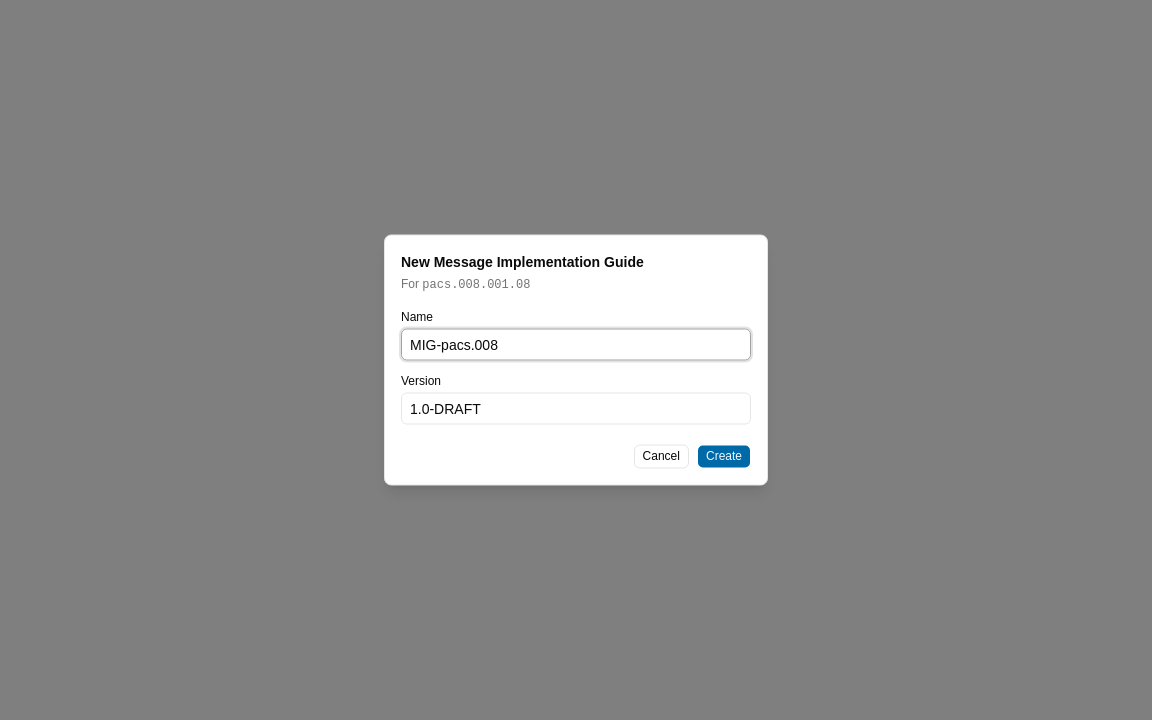
CreateMigDialog › requires a name and version
The width and height of the screenshot is (1152, 720).
Clear the field labelled "Name" at (576, 344), box 401,328 -> 751,360
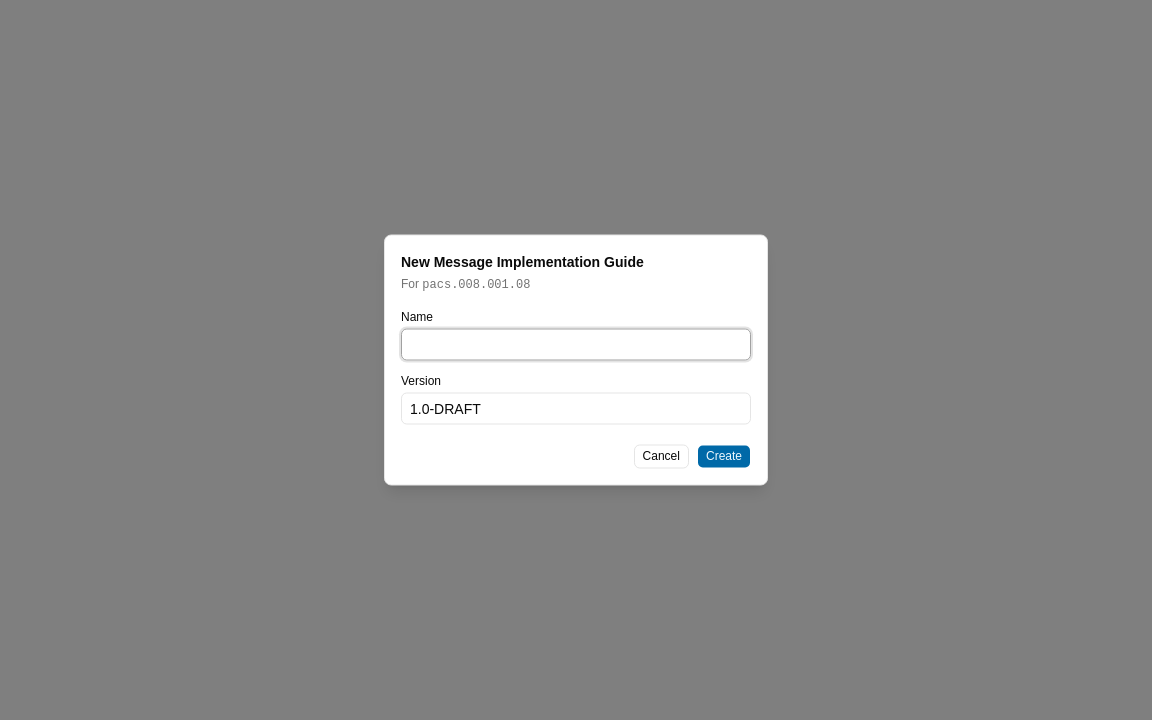
Click the button "Create" at (724, 456), box 697,444 -> 751,468
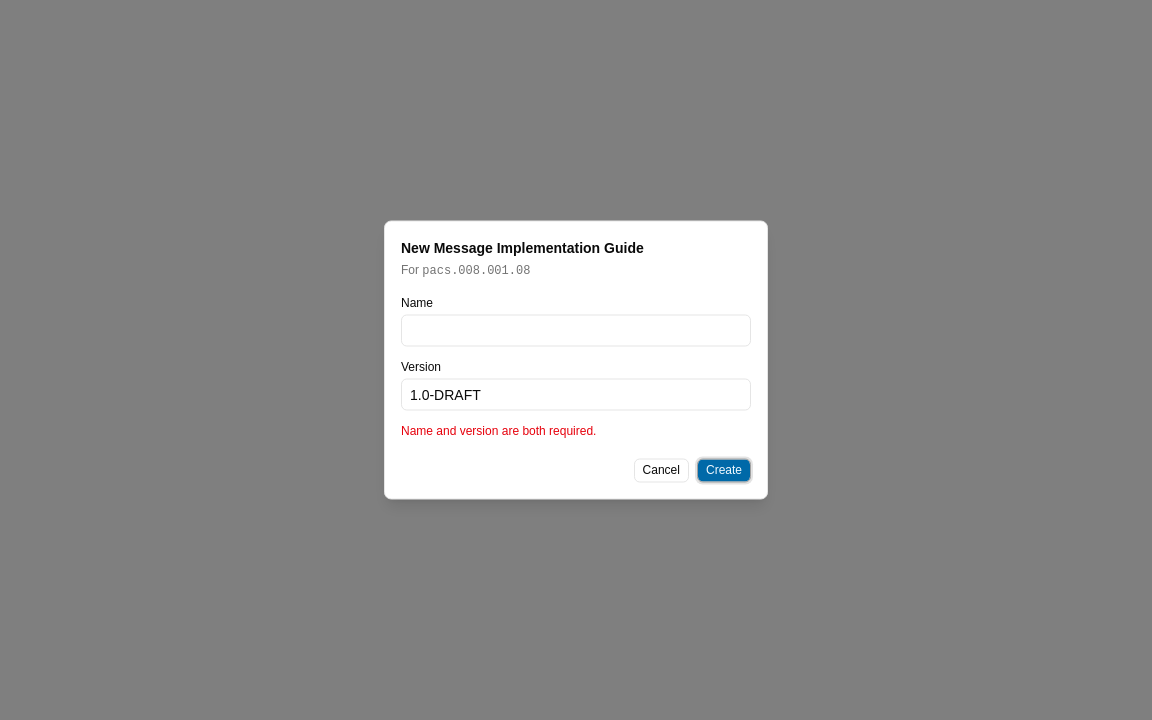
Now the message shows "required", box 401,424 -> 596,438
